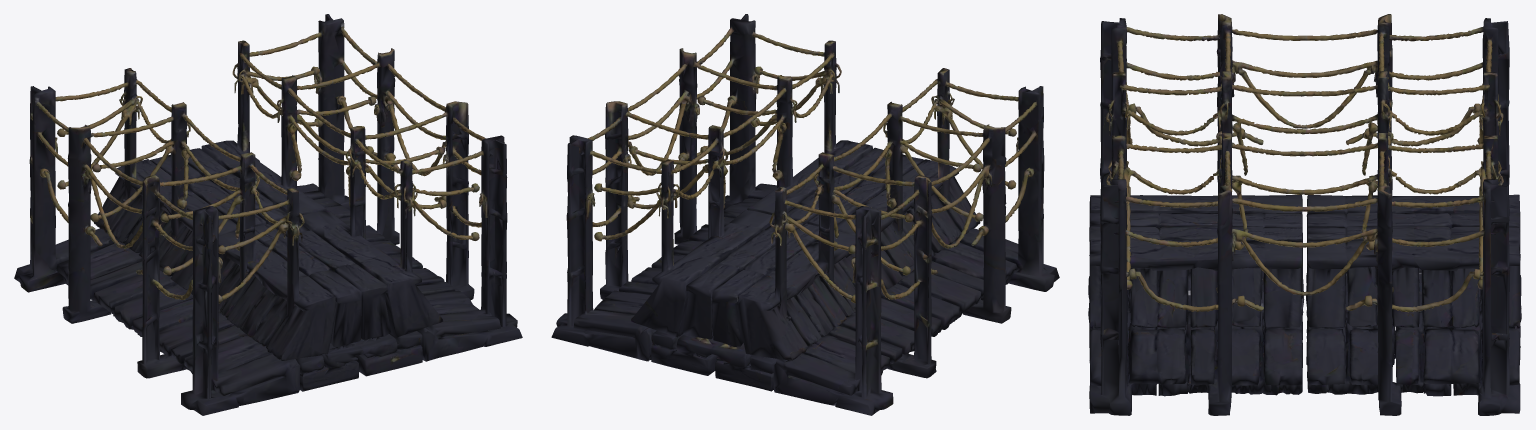
The model's file is chasm-bridge.glb.
The picture shows the model from 3 angles, left to right: view 1: azimuth 30°, elevation 25°; view 2: azimuth 150°, elevation 25°; view 3: azimuth 270°, elevation 25°; orthographic projection. The views are drawn at different scales.
Bounding box in the file's own units: 1.9 × 1.07 × 1.9.
Materials: 1 (1 with a texture image).
